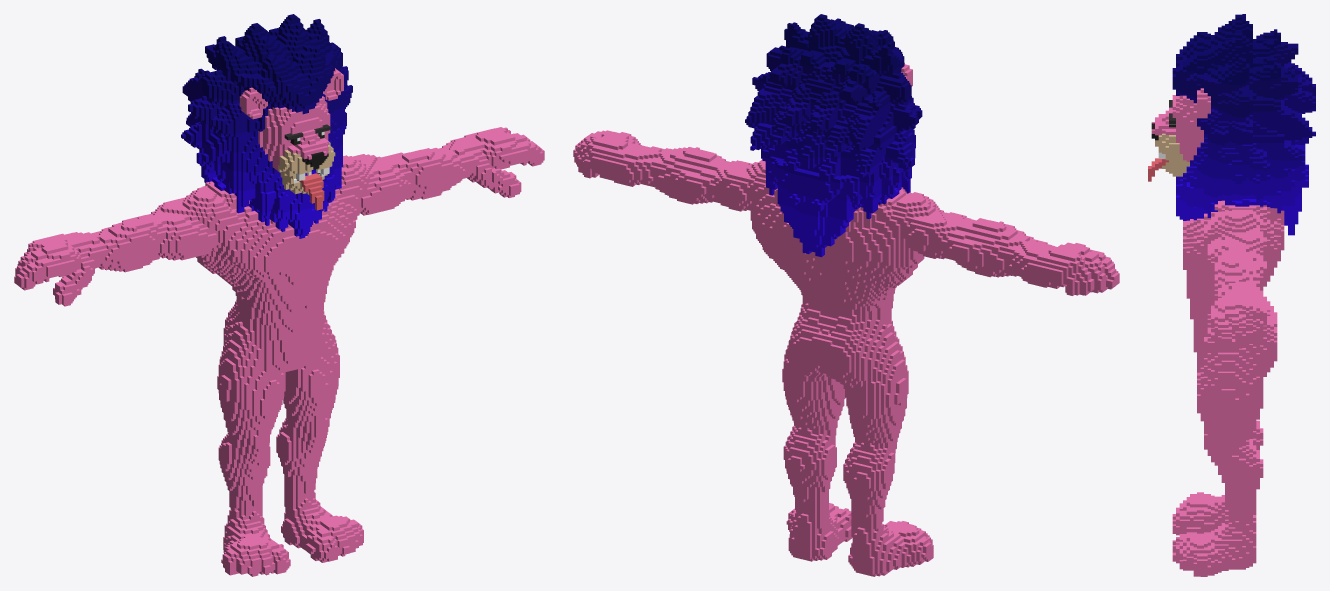
The model's file is 497-DA2TPNFR.glb.
3 views of the same model, side by side, from view 1: azimuth 30°, elevation 25°; view 2: azimuth 150°, elevation 25°; view 3: azimuth 270°, elevation 25° (orthographic). The views are drawn at different scales.
Parts seen in each view (by area): view 1: tongue_out; view 2: tongue_out; view 3: tongue_out.
Boxes of the visible parts, x1,y1,x2,y2 form: tongue_out: (14, 14, 544, 576); tongue_out: (573, 14, 1119, 576); tongue_out: (1148, 14, 1315, 576).
Size of the model in its own units: 17.2 by 16.5 by 4.8.
4 materials, 4 textured.
